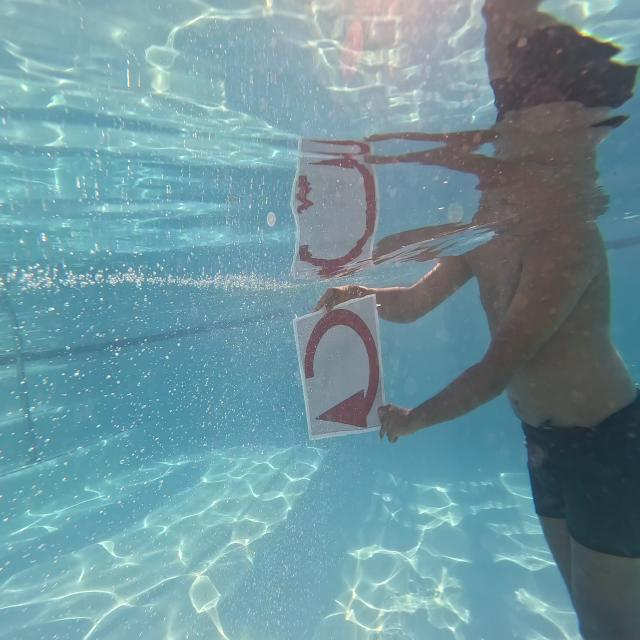red_side: (292, 295, 386, 438)
